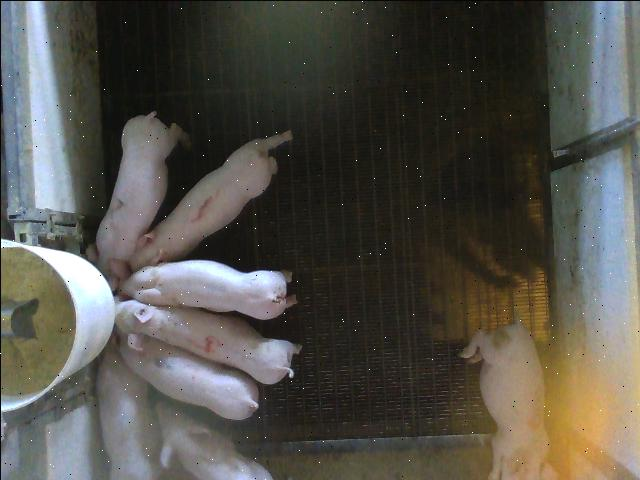pig-1: (129, 129, 291, 269)
pig-3: (459, 321, 556, 478)
pig-4: (115, 299, 300, 382)
